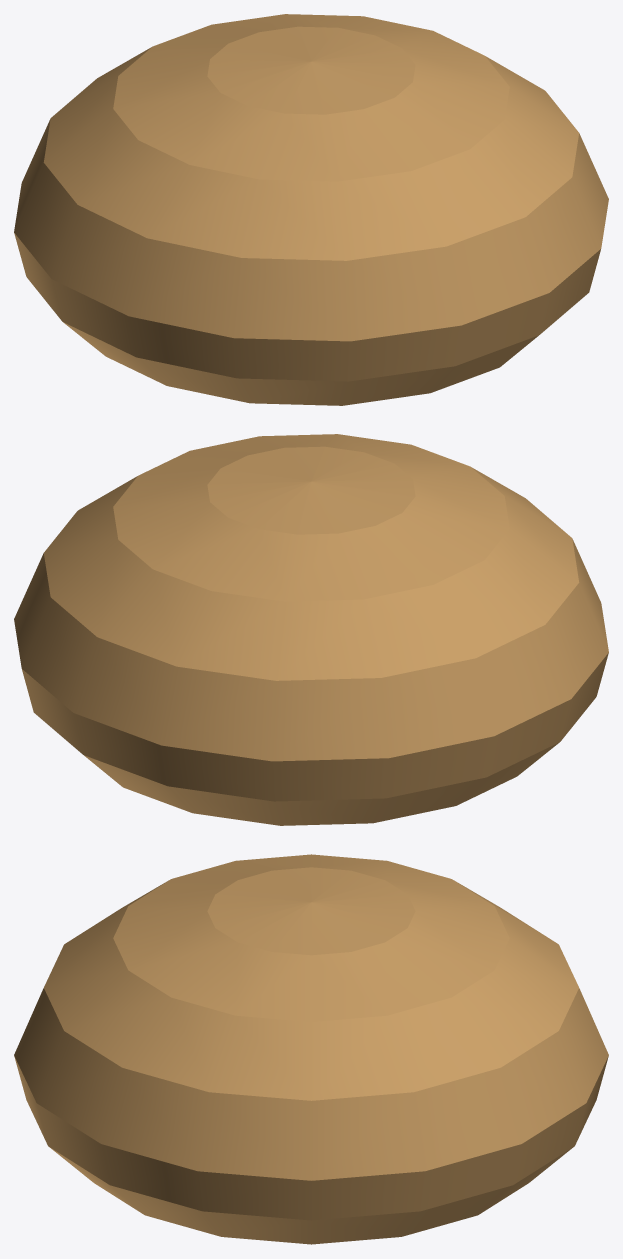
File: Bread.gltf
3 views of the same model, one above another, from view 1: azimuth 30°, elevation 25°; view 2: azimuth 150°, elevation 25°; view 3: azimuth 270°, elevation 25° (orthographic).
Size of the model in its own units: 0.24 by 0.108 by 0.24.
